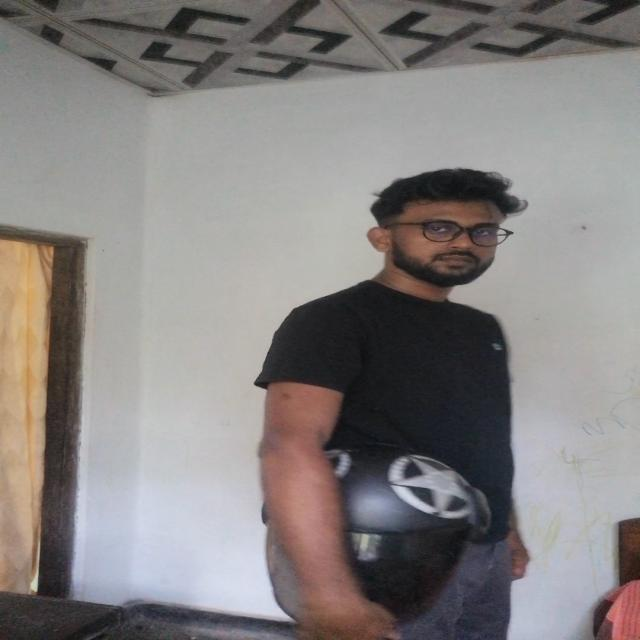Person: (256, 161, 545, 640)
